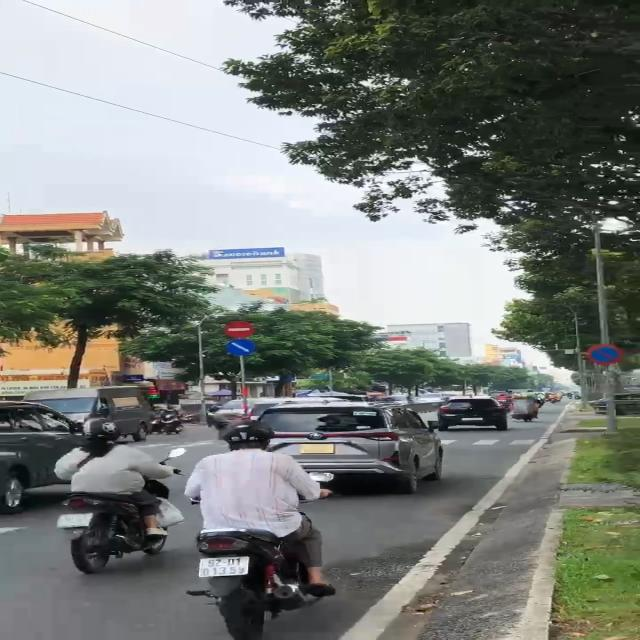Bien bao cam di nguoc chieu: (220, 320, 256, 340)
Bien bao huong phai di vong chuong ngai vat: (222, 340, 266, 358)
